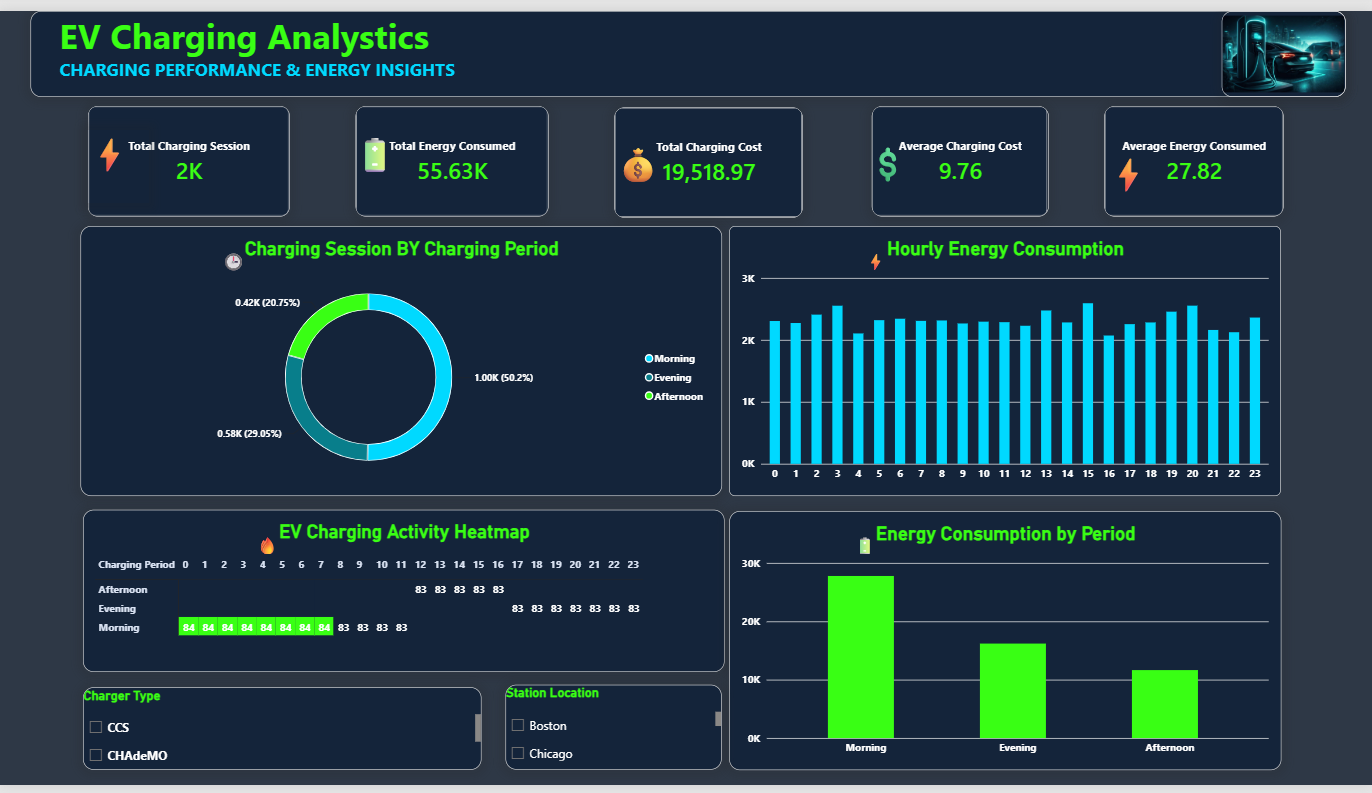

What the dashboard file says about the page in this screenshot:
{"tool":"powerbi","page":{"name":"Executive Overview","canvas":[1920,1080],"ordinal":0},"visuals":[{"type":"cardVisual","fields":{"Data":["CountNonNull(EV_Data.Session ID)"]},"box":[125,131.7,282,154.4],"z":0},{"type":"cardVisual","fields":{"Data":["Sum(EV_Data.Energy Consumed (kWh))"]},"box":[499.6,131.7,269.6,154.4],"z":1000},{"type":"cardVisual","fields":{"Data":["Sum(EV_Data.Cost of Charging (â‚¹/$))"]},"box":[859.8,133.8,263.5,154.4],"z":2000},{"type":"cardVisual","fields":{"Data":["Avg(EV_Data.Cost of Charging (â‚¹/$))"]},"box":[1220,131.7,247,154.4],"z":3000},{"type":"cardVisual","fields":{"Data":["Avg(EV_Data.Energy Consumed (kWh))"]},"box":[1544.4,132,250,154],"z":4000},{"type":"textbox","box":[45.3,0,1834.9,120.3],"z":5000},{"type":"donutChart","title":"Charging Session BY Charging Period","fields":{"Category":["EV_Data.Charging Period"],"Y":["CountNonNull(EV_Data.Session ID)"]},"box":[115.5,299.7,895.4,376.7],"z":6000},{"type":"clusteredColumnChart","title":"Hourly Energy Consumption","fields":{"Category":["EV_Data.Charging Hour"],"Y":["Sum(EV_Data.Energy Consumed (kWh))"]},"box":[1019.5,299.5,769.8,376.7],"z":7000},{"type":"pivotTable","title":"EV Charging Activity Heatmap","fields":{"Columns":["EV_Data.Charging Hour"],"Rows":["EV_Data.Charging Period"],"Values":["CountNonNull(EV_Data.Session ID)"]},"box":[118,696.8,895.4,226.4],"z":8000},{"type":"clusteredColumnChart","title":"Energy Consumption by Period","fields":{"Category":["EV_Data.Charging Period"],"Y":["Sum(EV_Data.Energy Consumed (kWh))"]},"box":[1020.3,697.1,770,361.7],"z":9000},{"type":"slicer","title":"Station Location","fields":{"Values":["EV_Data.Station Location"]},"box":[708.1,940.1,301.7,118.6],"z":10000},{"type":"slicer","title":"Charger Type","fields":{"Values":["EV_Data.Connector Type"]},"box":[118.6,943.6,556.4,115.1],"z":11000},{"type":"image","box":[1707.6,0,172.7,120.3],"z":12000},{"type":"textbox","box":[124,166,86,102],"z":14000},{"type":"textbox","box":[480,166,110,234],"z":15000},{"type":"textbox","box":[860,180,98,210],"z":16000},{"type":"textbox","box":[1208,180,116,220],"z":17000},{"type":"textbox","box":[1546,194,82,126],"z":18000},{"type":"textbox","box":[312.2,333.1,139.5,80.2],"z":19000},{"type":"textbox","box":[1208.7,333.1,116.9,66.3],"z":20000},{"type":"textbox","box":[359.3,729.1,176.2,55.8],"z":21000},{"type":"textbox","box":[1193,729.1,132.6,101.2],"z":22000}]}

Visuals, with their boxes in screenshot pixels (x1, y1, x2, y2), scaled from the page's 1920x1080 canvas onto the 1372x793 screenshot:
cardVisual - CountNonNull(EV_Data.Session ID): 89 97 291 210
cardVisual - Sum(EV_Data.Energy Consumed (kWh)): 357 97 550 210
cardVisual - Sum(EV_Data.Cost of Charging (â‚¹/$)): 614 98 803 212
cardVisual - Avg(EV_Data.Cost of Charging (â‚¹/$)): 872 97 1048 210
cardVisual - Avg(EV_Data.Energy Consumed (kWh)): 1104 97 1282 210
textbox: 32 0 1344 88
"Charging Session BY Charging Period" donutChart: 83 220 722 497
"Hourly Energy Consumption" clusteredColumnChart: 729 220 1279 497
"EV Charging Activity Heatmap" pivotTable: 84 512 724 678
"Energy Consumption by Period" clusteredColumnChart: 729 512 1279 777
"Station Location" slicer: 506 690 722 777
"Charger Type" slicer: 85 693 482 777
image: 1220 0 1344 88
textbox: 89 122 150 197
textbox: 343 122 422 294
textbox: 615 132 685 286
textbox: 863 132 946 294
textbox: 1105 142 1163 235
textbox: 223 245 323 303
textbox: 864 245 947 293
textbox: 257 535 383 576
textbox: 852 535 947 610
